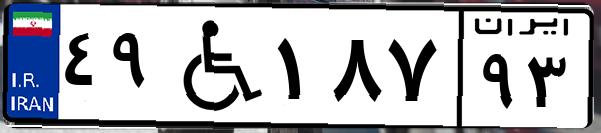1: (270, 28, 330, 110)
3: (525, 38, 570, 115)
4: (57, 26, 110, 100)
7: (385, 28, 445, 110)
8: (330, 28, 385, 110)
9: (475, 38, 525, 113), (110, 28, 158, 98)
ژ (معلولین و جانبازان): (158, 12, 270, 120)
